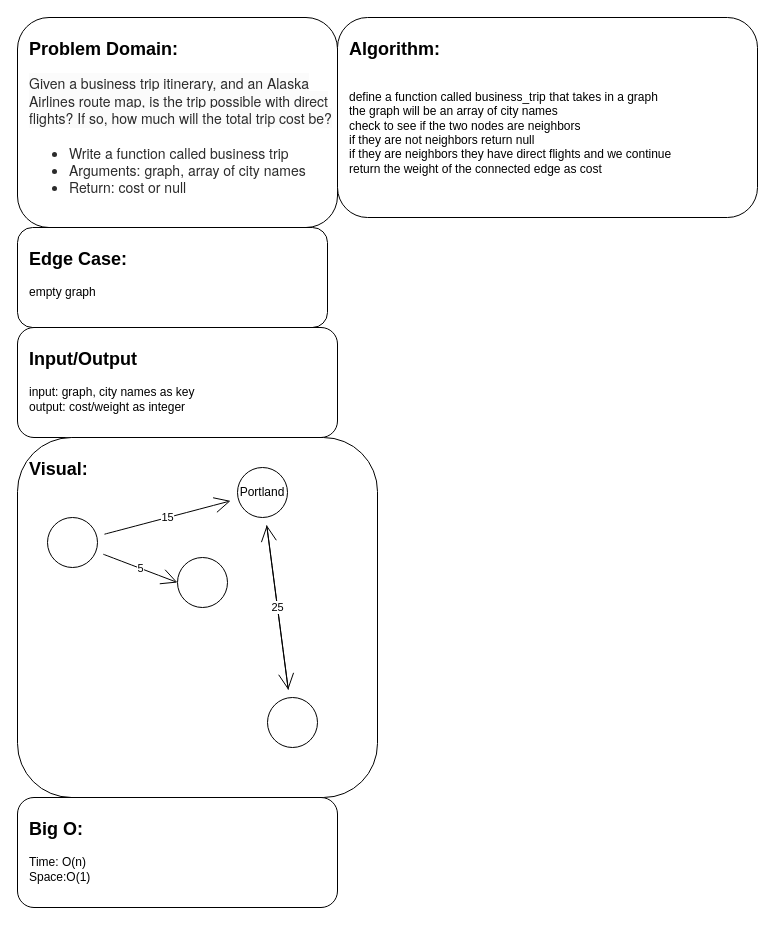
The diagram is 775 pixels wide and 925 high, and some of its shapes have lost their labels. The centre of each missing label's shape, as x and y in pixels:
Over there: pixel 292 722
Seattle: pixel 72 542
Tacoma: pixel 202 582
